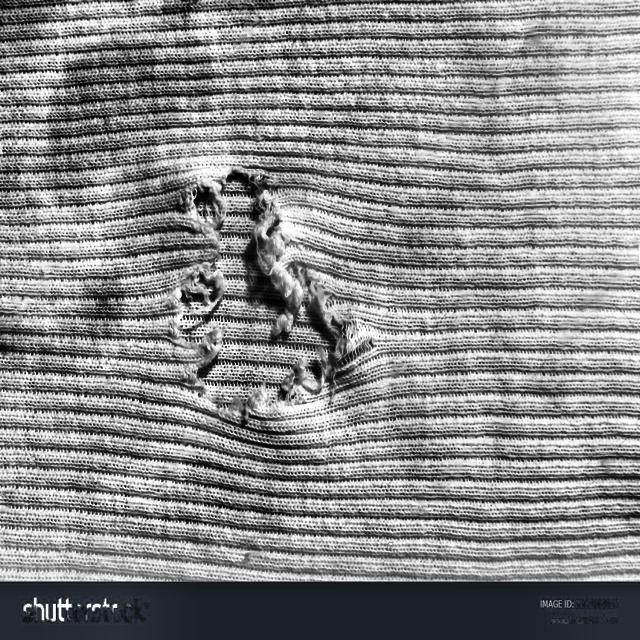Hole: (135, 144, 387, 456)
